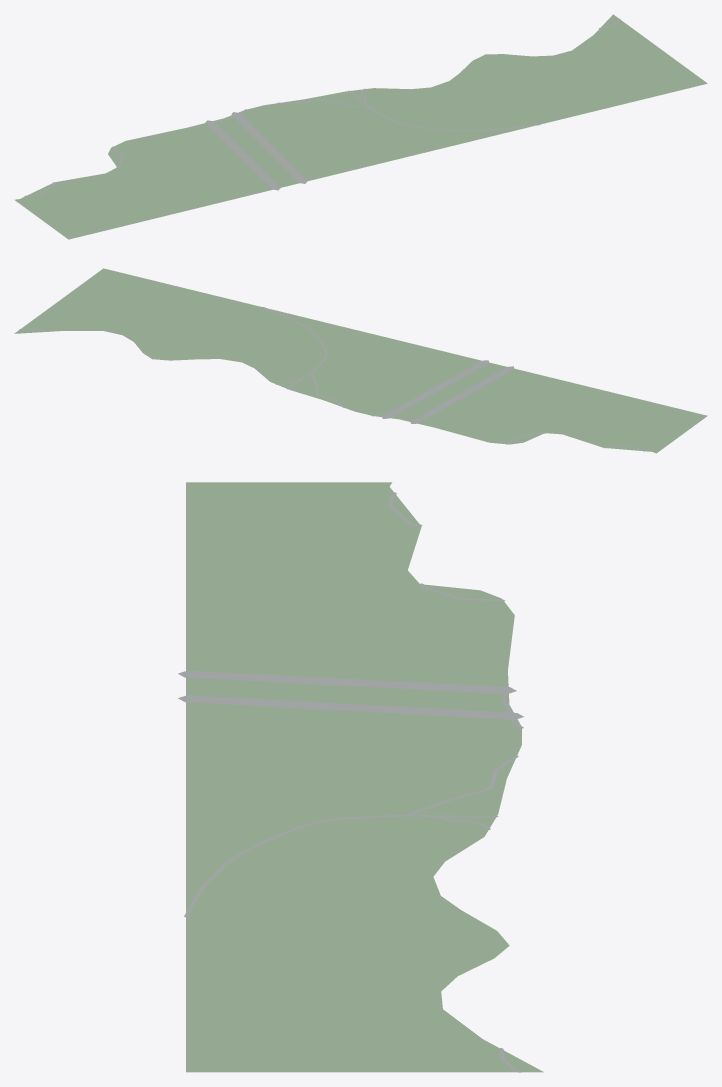
File: -2_5-known-fine.glb
3 views of the same model, one above another, from view 1: azimuth 30°, elevation 25°; view 2: azimuth 150°, elevation 25°; view 3: azimuth 270°, elevation 25° (orthographic). The views are drawn at different scales.
Size of the model in its own units: 1001 by 0.1 by 263.
